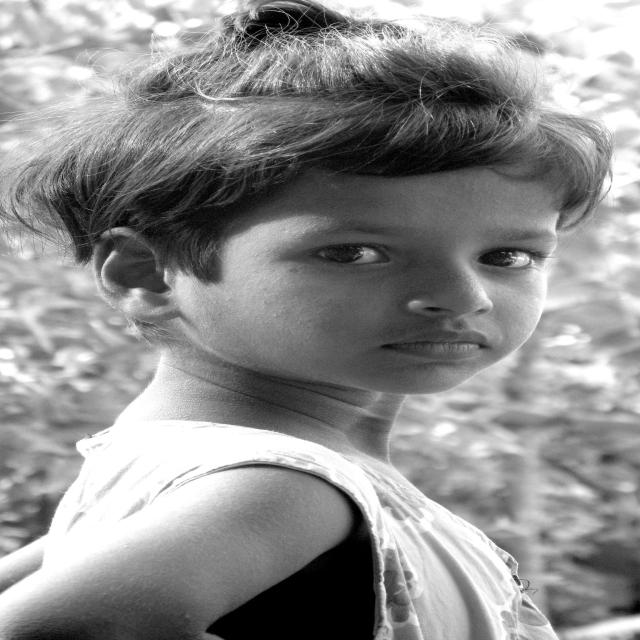no-glass: (298, 240, 550, 278)
